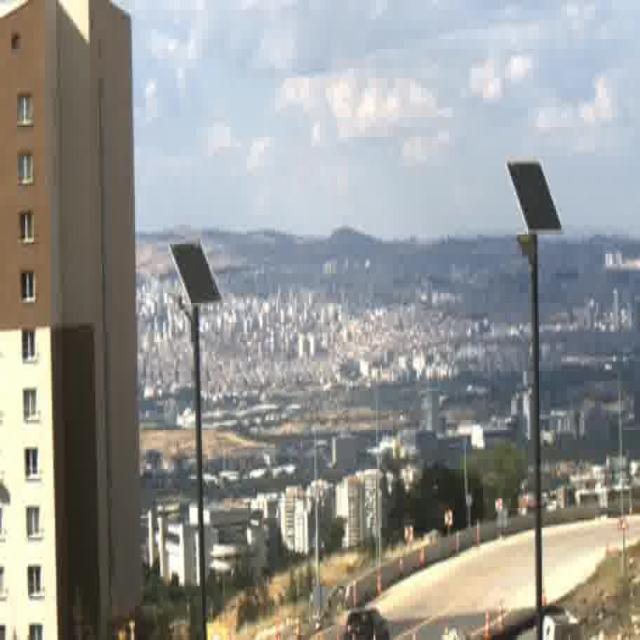Car: (346, 608, 389, 640)
